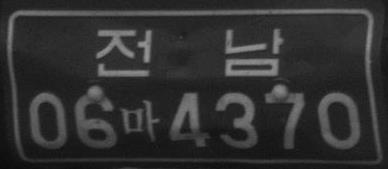0: (316, 90, 361, 149), (29, 90, 66, 150)
3: (215, 90, 258, 148)
4: (169, 91, 211, 148)
6: (75, 90, 118, 149)
7: (263, 91, 306, 150)
마: (120, 99, 159, 141)
전남_D: (95, 27, 284, 78)
